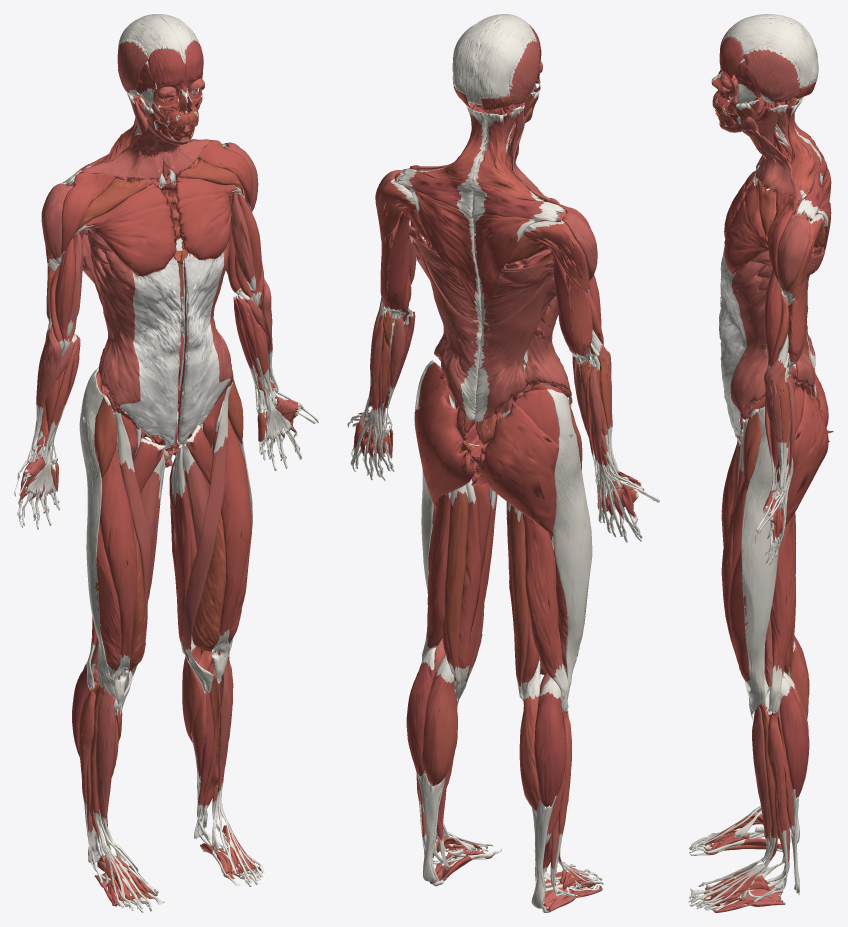
File: female-muscular.glb
3 renders of one model, left to right at view 1: azimuth 30°, elevation 25°; view 2: azimuth 150°, elevation 25°; view 3: azimuth 270°, elevation 25°, orthographic. The views are drawn at different scales.
Visible parts, largest first — view 1: External_abdominal_oblique_muscle_R, External_abdominal_oblique_muscle_L, Sternocostal_head_of_pectoralis_major_muscle_R, Rectus_femoris_muscle_R, Rectus_femoris_muscle_L, Sternocostal_head_of_pectoralis_major_muscle_L, Iliotibial_tract_R, Sartorius_muscle_L, Vastus_medialis_muscle_L, Gracilis_muscle_L, Sartorius_muscle_R, Platysma_R (+40 smaller); view 2: Latissimus_dorsi_muscle_R, Iliotibial_tract_R, Gluteus_maximus_muscle_R, Latissimus_dorsi_muscle_L, Long_head_of_biceps_femoris_R, Gluteus_maximus_muscle_L, Descending_part_of_trapezius_muscle_L, Epicranial_aponeurosis_R, Medial_head_of_gastrocnemius_L, Lateral_head_of_gastrocnemius_R, Semitendinosus_muscle_L, Descending_part_of_trapezius_muscle_R (+33 smaller); view 3: Iliotibial_tract_L, External_abdominal_oblique_muscle_L, Long_head_of_biceps_femoris_L, Epicranial_aponeurosis_L, Gluteus_maximus_muscle_L, Temporoparietalis_muscle_L, Sternocostal_head_of_pectoralis_major_muscle_L, Lateral_head_of_gastrocnemius_L, Platysma_L, Acromial_part_of_deltoid_muscle_L, Rectus_femoris_muscle_L, Fibularis_longus_muscle_L (+36 smaller).
Boxes of the visible parts, bbox=[...] form: External_abdominal_oblique_muscle_R: bbox=[98, 250, 181, 439]; External_abdominal_oblique_muscle_L: bbox=[179, 240, 232, 436]; Sternocostal_head_of_pectoralis_major_muscle_R: bbox=[74, 183, 176, 276]; Rectus_femoris_muscle_R: bbox=[99, 435, 136, 707]; Rectus_femoris_muscle_L: bbox=[211, 400, 251, 683]; Sternocostal_head_of_pectoralis_major_muscle_L: bbox=[176, 177, 242, 260]; Iliotibial_tract_R: bbox=[79, 367, 116, 697]; Sartorius_muscle_L: bbox=[183, 382, 232, 692]; Vastus_medialis_muscle_L: bbox=[192, 512, 226, 668]; Gracilis_muscle_L: bbox=[171, 447, 206, 693]; Sartorius_muscle_R: bbox=[112, 409, 151, 713]; Platysma_R: bbox=[79, 118, 185, 179]; Latissimus_dorsi_muscle_R: bbox=[474, 260, 555, 422]; Iliotibial_tract_R: bbox=[547, 389, 592, 687]; Gluteus_maximus_muscle_R: bbox=[471, 402, 558, 536]; Latissimus_dorsi_muscle_L: bbox=[407, 220, 481, 420]; Long_head_of_biceps_femoris_R: bbox=[522, 513, 569, 711]; Gluteus_maximus_muscle_L: bbox=[414, 386, 476, 507]; Descending_part_of_trapezius_muscle_L: bbox=[410, 188, 481, 324]; Epicranial_aponeurosis_R: bbox=[472, 14, 537, 105]; Medial_head_of_gastrocnemius_L: bbox=[422, 656, 457, 785]; Lateral_head_of_gastrocnemius_R: bbox=[534, 676, 566, 807]; Semitendinosus_muscle_L: bbox=[444, 485, 468, 699]; Descending_part_of_trapezius_muscle_R: bbox=[473, 215, 541, 325]; Iliotibial_tract_L: bbox=[741, 406, 793, 711]; External_abdominal_oblique_muscle_L: bbox=[719, 260, 795, 435]; Long_head_of_biceps_femoris_L: bbox=[768, 515, 795, 713]; Epicranial_aponeurosis_L: bbox=[723, 18, 818, 87]; Gluteus_maximus_muscle_L: bbox=[785, 389, 833, 526]; Temporoparietalis_muscle_L: bbox=[743, 46, 800, 102]; Sternocostal_head_of_pectoralis_major_muscle_L: bbox=[724, 184, 768, 274]; Lateral_head_of_gastrocnemius_L: bbox=[779, 676, 809, 798]; Platysma_L: bbox=[719, 116, 800, 200]; Acromial_part_of_deltoid_muscle_L: bbox=[777, 214, 809, 296]; Rectus_femoris_muscle_L: bbox=[721, 438, 761, 719]; Fibularis_longus_muscle_L: bbox=[748, 710, 788, 898].
Bounding box in the file's own units: 0.5858 × 1.57 × 0.2397.
